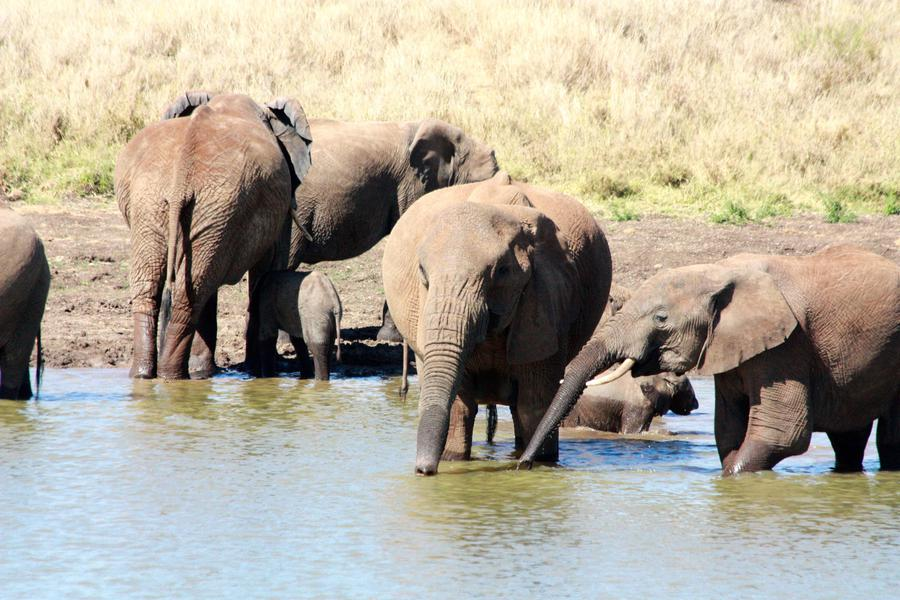elephant: (414, 197, 561, 397)
